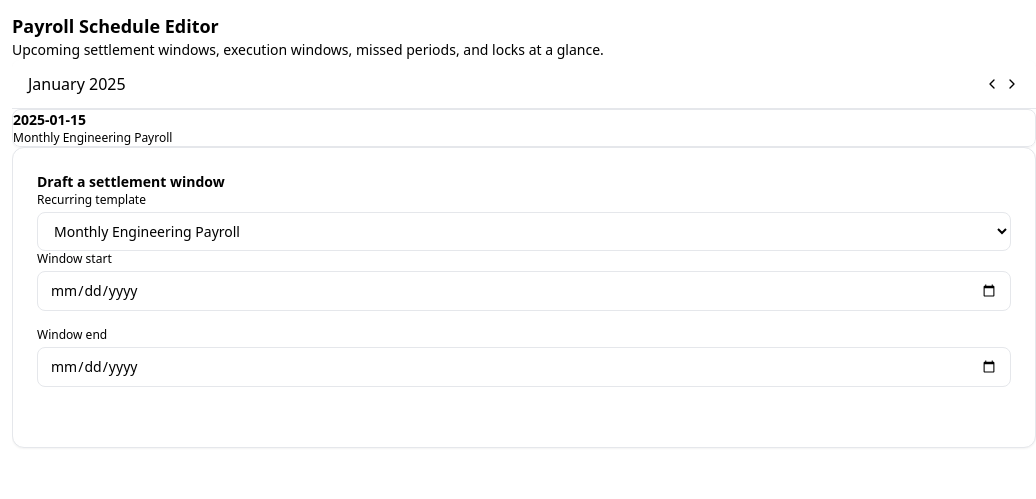
Scenario: PayrollScheduleEditor › rejects a draft window where start is after end
The width and height of the screenshot is (1036, 499).
Type "2025-02-10" into the date field labelled "Window start".
click(524, 291); type("2025-02-10")  # box [37,271,1011,311]
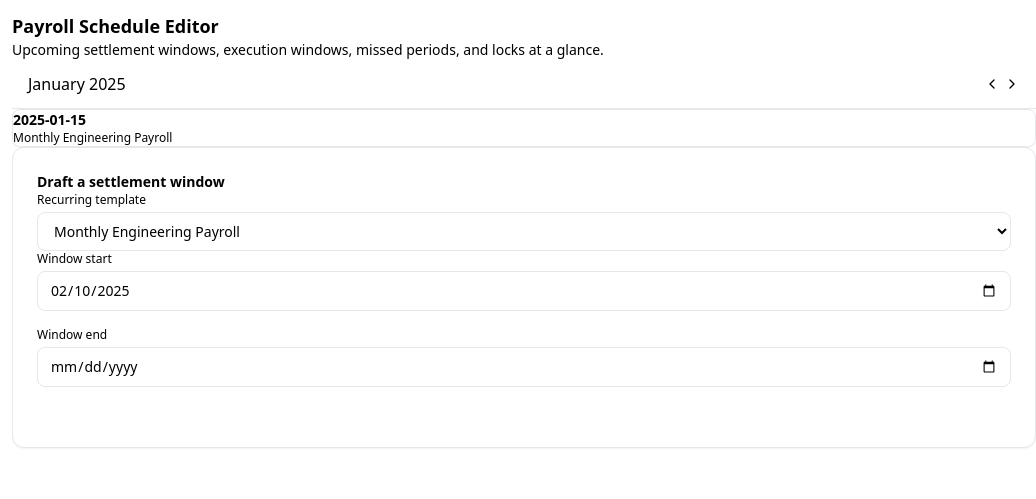
Type "2025-02-01" into the date field labelled "Window end".
click(524, 367); type("2025-02-01")  # box [37,347,1011,387]
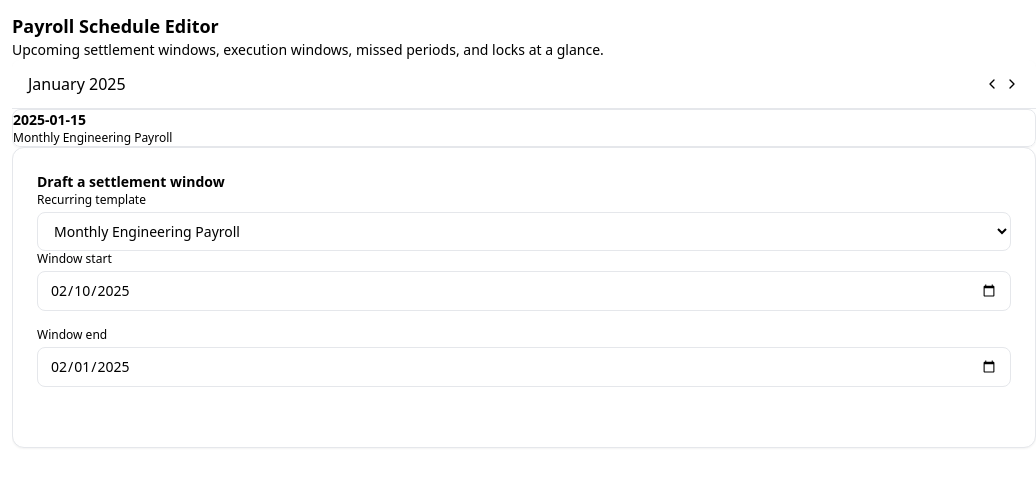
Click the button "Save draft window".
click(124, 405)  # box [37,387,212,423]
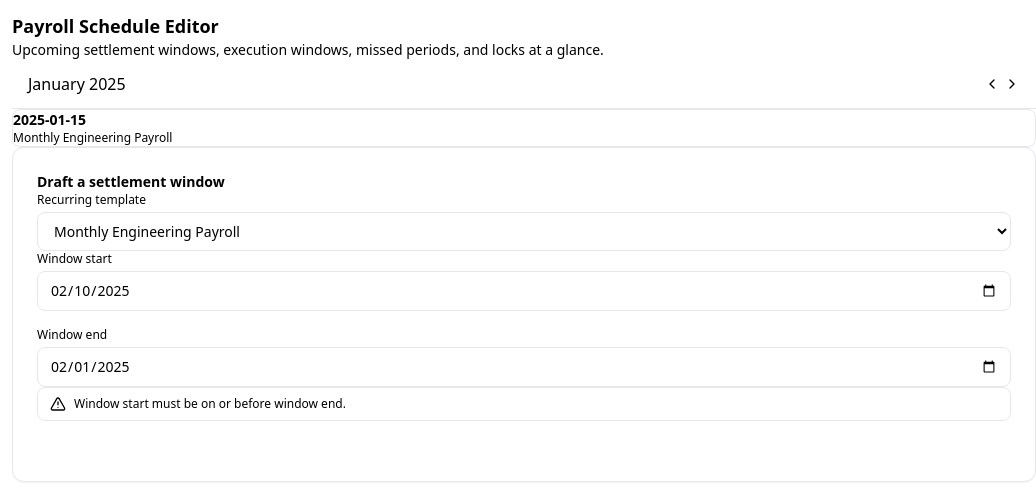
Expected: the message shows "Window start must be on or before window end", [74,395,346,412]
